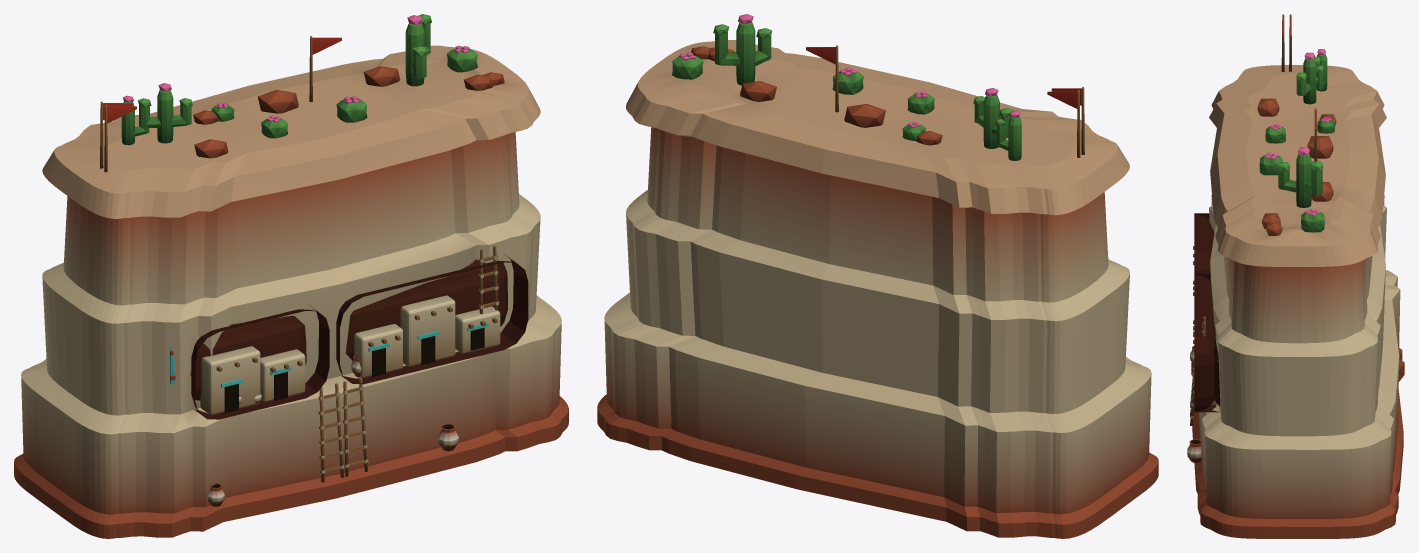
Rendered from canyon-s7-DRGQ5d2c.glb.
The picture shows the model from 3 angles, left to right: view 1: azimuth 30°, elevation 25°; view 2: azimuth 150°, elevation 25°; view 3: azimuth 270°, elevation 25°; orthographic projection. The views are drawn at different scales.
Parts seen in each view (by area): view 1: sc_cliff_2, sc_cliff; view 2: sc_cliff_2, sc_cliff; view 3: sc_cliff_2, sc_cliff.
Boxes of the visible parts, bbox=[...] form: sc_cliff_2: bbox=[14, 36, 568, 538]; sc_cliff: bbox=[30, 14, 562, 537]; sc_cliff_2: bbox=[597, 41, 1158, 538]; sc_cliff: bbox=[604, 14, 1144, 537]; sc_cliff_2: bbox=[1190, 14, 1404, 538]; sc_cliff: bbox=[1187, 14, 1402, 538].
Bounding box in the file's own units: 32.4 × 25.6 × 14.7.
